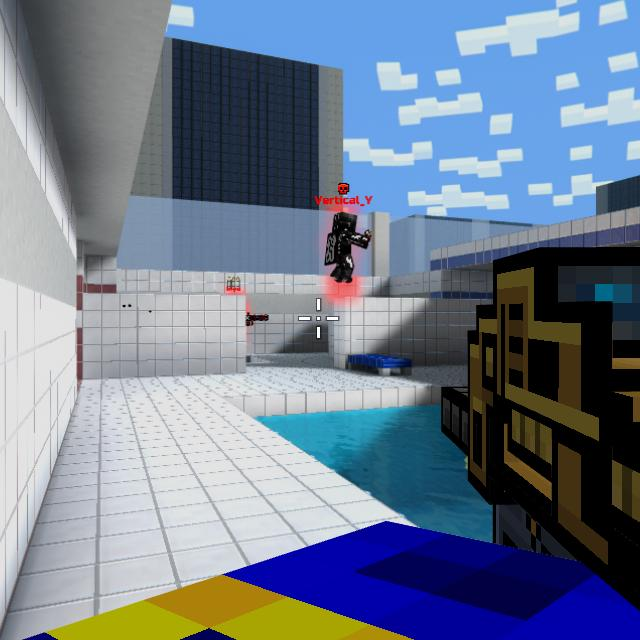Enemy: (329, 211, 370, 283)
